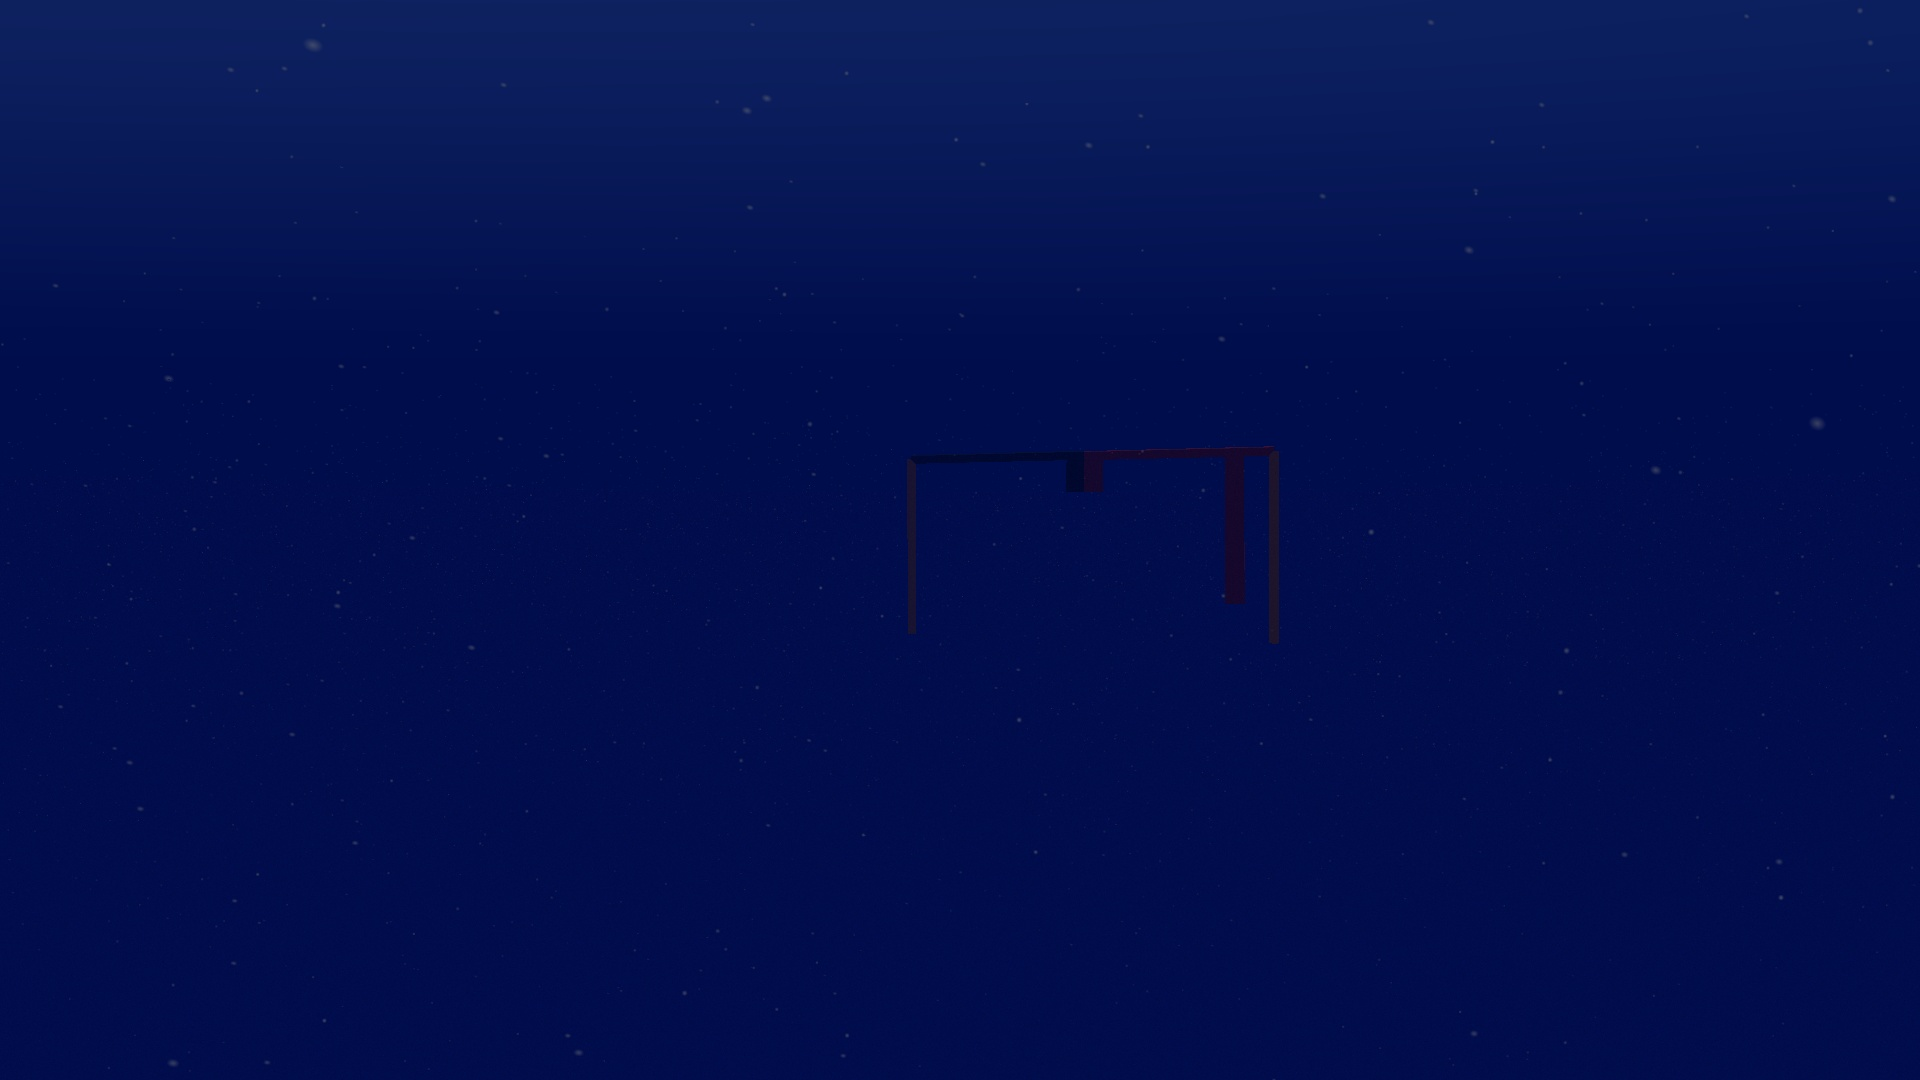Gate: (898, 439, 1284, 659)
